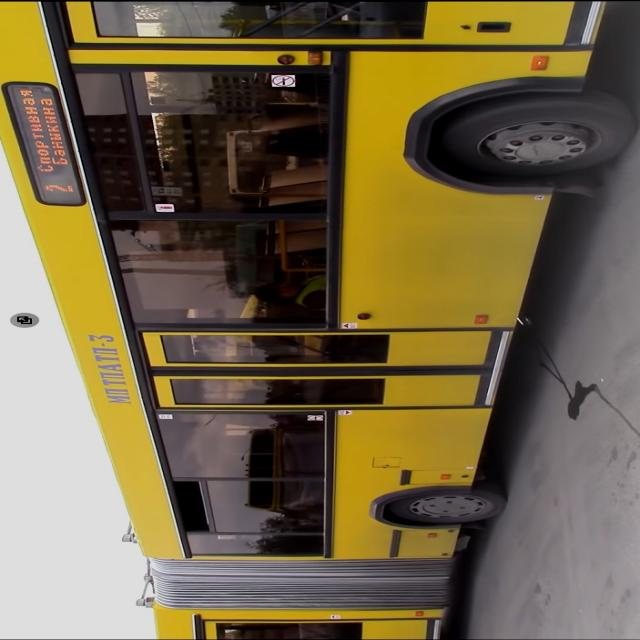bus: (2, 1, 640, 638)
